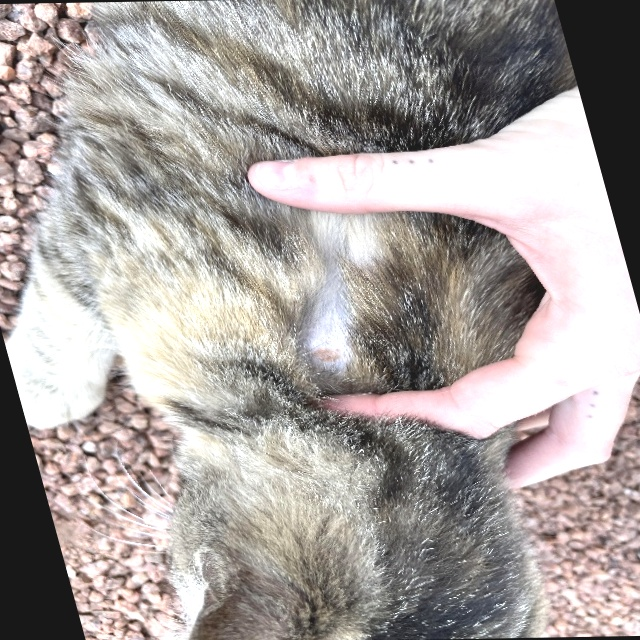hairloss: (252, 205, 424, 393)
